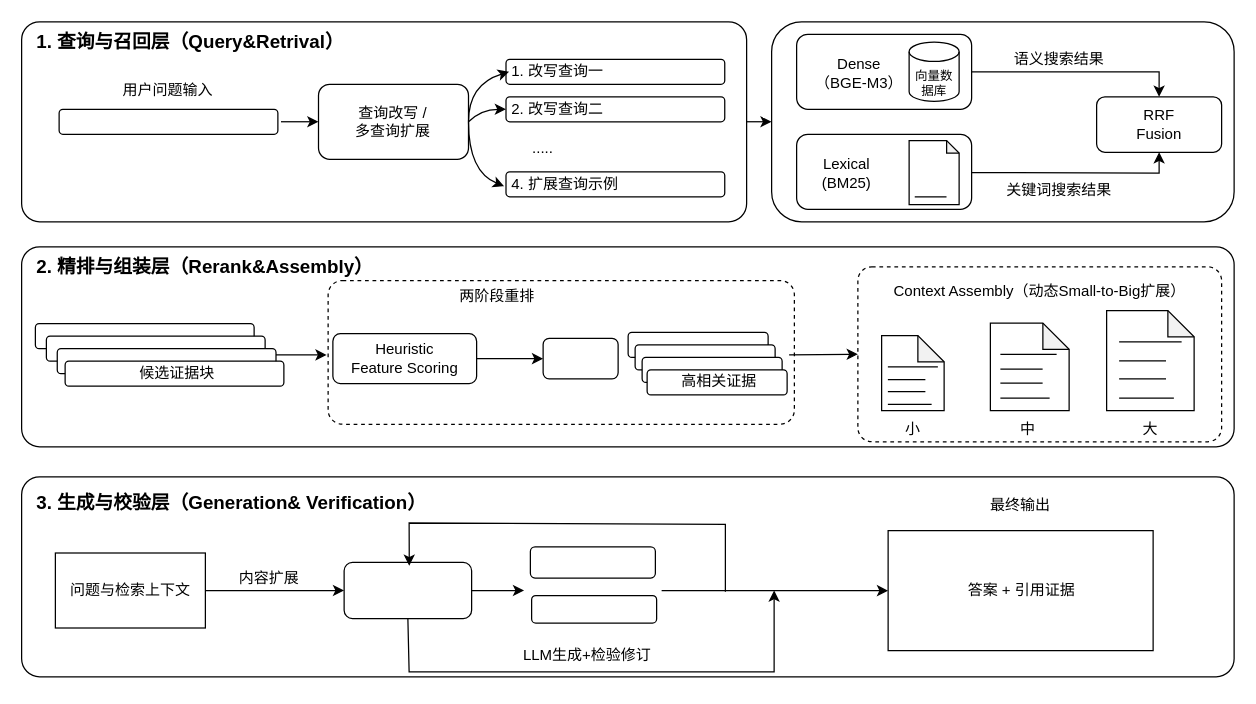
Some shapes in this 1256 by 704 pixel diagram are drawn without their labels. Each missing label, with the box of its shape:
LLM Generation: (343, 561, 472, 619)
Model Rerank: (542, 337, 618, 379)
事实性检查: (530, 594, 657, 623)
倒排 索引: (908, 139, 959, 205)
完备性检查: (529, 546, 655, 578)
用户问题: (58, 108, 278, 134)
